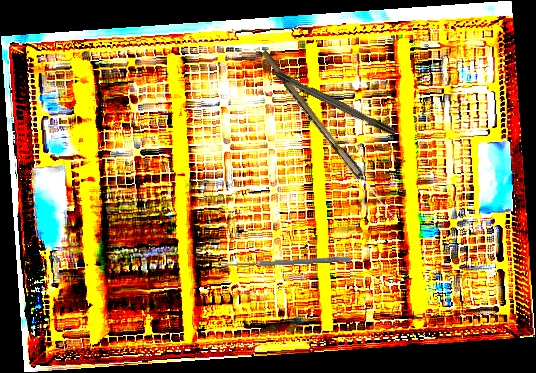Hook Surgical: (251, 57, 397, 138)
Surgical Spoon: (257, 49, 401, 224), (217, 255, 352, 269)
